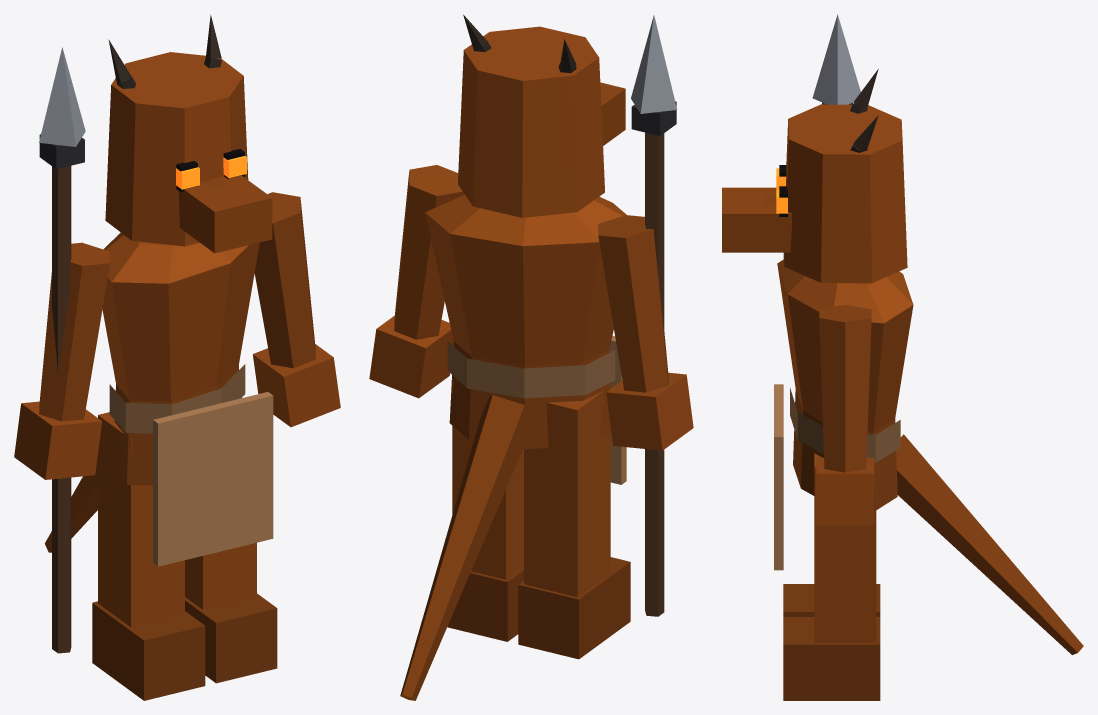
The model's file is kobold.glb.
3 views of the same model, side by side, from view 1: azimuth 30°, elevation 25°; view 2: azimuth 150°, elevation 25°; view 3: azimuth 270°, elevation 25° (orthographic). The views are drawn at different scales.
Parts seen in each view (by area): view 1: kobold_torso, kobold_head, kobold_leg_r, kobold_arm_r, kobold_arm_l, kobold_spear, kobold_leg_l, kobold_tail; view 2: kobold_torso, kobold_head, kobold_leg_r, kobold_arm_r, kobold_arm_l, kobold_tail, kobold_spear, kobold_leg_l; view 3: kobold_head, kobold_torso, kobold_leg_l, kobold_arm_l, kobold_tail, kobold_spear, kobold_leg_r.
Boxes of the visible parts, x1,y1,x2,y2 form: kobold_torso: [102, 232, 273, 566]; kobold_head: [105, 14, 272, 253]; kobold_leg_r: [92, 412, 205, 700]; kobold_arm_r: [14, 242, 110, 479]; kobold_arm_l: [252, 192, 340, 427]; kobold_spear: [39, 47, 85, 653]; kobold_leg_l: [185, 398, 277, 683]; kobold_tail: [45, 455, 97, 552]; kobold_torso: [425, 194, 626, 484]; kobold_head: [458, 14, 625, 217]; kobold_leg_r: [518, 391, 630, 659]; kobold_arm_r: [598, 215, 693, 450]; kobold_arm_l: [369, 165, 463, 398]; kobold_tail: [400, 395, 530, 700]; kobold_spear: [631, 15, 677, 616]; kobold_leg_l: [447, 379, 523, 641]; kobold_head: [722, 69, 907, 283]; kobold_torso: [774, 259, 913, 570]; kobold_leg_l: [783, 453, 880, 700]; kobold_arm_l: [816, 304, 874, 525]; kobold_tail: [896, 434, 1083, 654]; kobold_spear: [812, 14, 860, 104]; kobold_leg_r: [783, 584, 880, 616].
Size of the model in its own units: 0.5418 by 1.13 by 0.6159.
